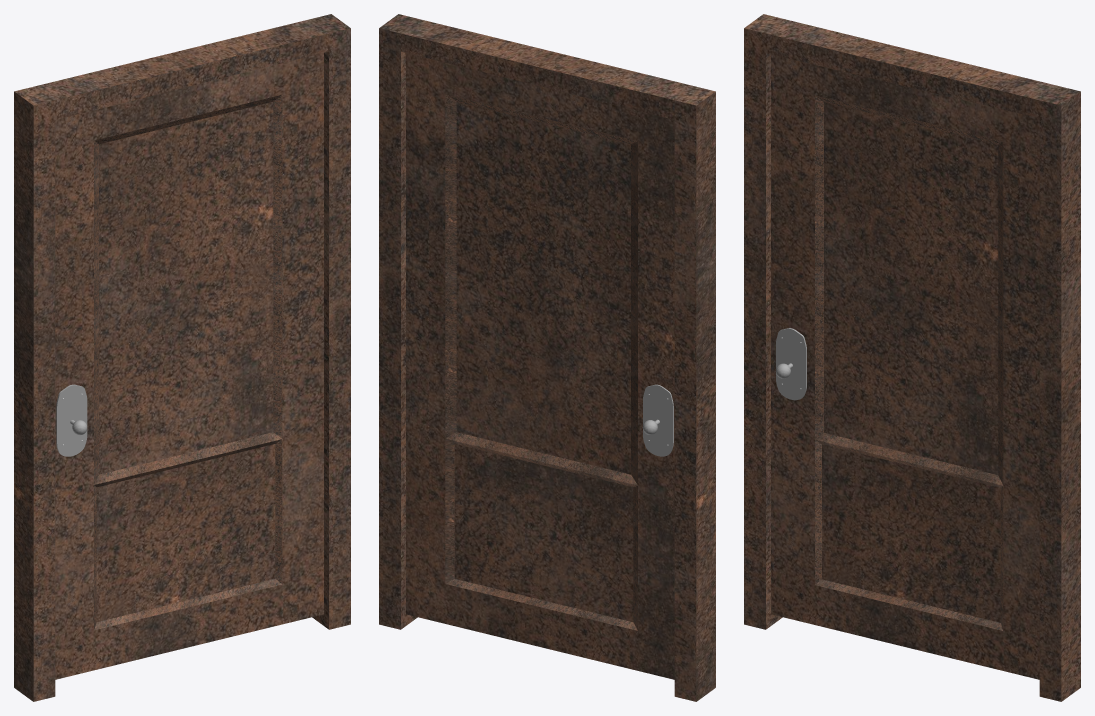
The model's file is door_metal.glb.
3 views of the same model, side by side, from view 1: azimuth 30°, elevation 25°; view 2: azimuth 150°, elevation 25°; view 3: azimuth 330°, elevation 25° (orthographic).
Parts seen in each view (by area): view 1: Sphere.001, Cube.001; view 2: Sphere.001, Cube.001; view 3: Sphere.001, Cube.001.
Boxes of the visible parts, x1,y1,x2,y2 form: Sphere.001: (55, 53, 323, 679); Cube.001: (14, 14, 350, 701); Sphere.001: (406, 53, 674, 679); Cube.001: (379, 14, 715, 701); Sphere.001: (771, 54, 1039, 679); Cube.001: (744, 14, 1080, 701).
Bounding box in the file's own units: 1.15 × 2.07 × 0.2133.
3 materials, 1 textured.
